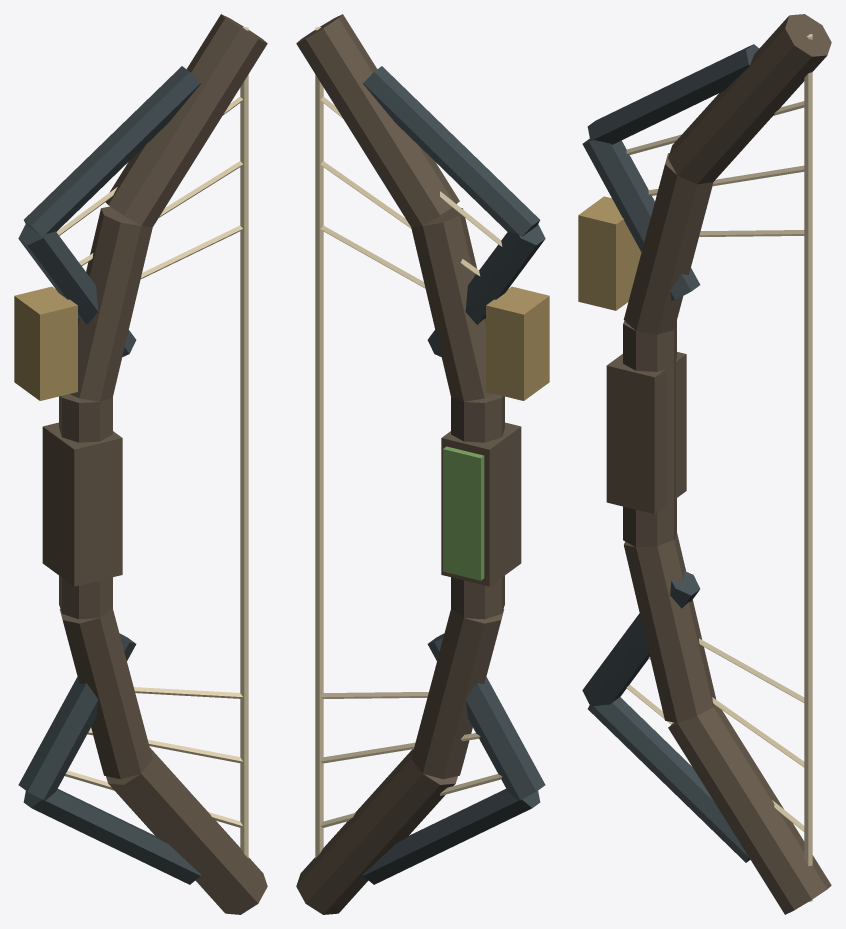
The model's file is Arsenal_WebweaverBow.fbx.
3 views of the same model, side by side, from view 1: azimuth 30°, elevation 25°; view 2: azimuth 150°, elevation 25°; view 3: azimuth 330°, elevation 25° (orthographic).
Visible parts, largest first — view 1: Arsenal_WebweaverBow; view 2: Arsenal_WebweaverBow; view 3: Arsenal_WebweaverBow.
Boxes of the visible parts, x1,y1,x2,y2 form: Arsenal_WebweaverBow: (14,14,267,914); Arsenal_WebweaverBow: (296,14,549,914); Arsenal_WebweaverBow: (578,14,831,914).
Size of the model in its own units: 0.3493 by 1.24 by 0.089.
